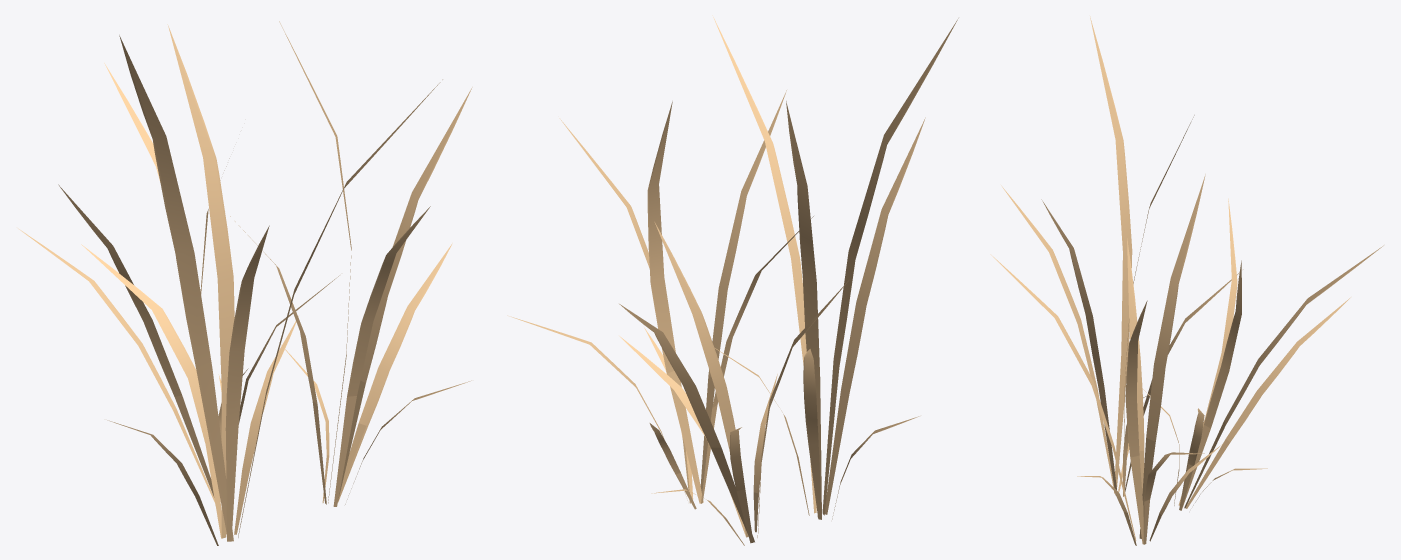
Rendered from mesh137__41213a15_522e_5440_98e7_76d05bfbb304__0_lev1.glb.
3 renders of one model, left to right at view 1: azimuth 30°, elevation 25°; view 2: azimuth 150°, elevation 25°; view 3: azimuth 270°, elevation 25°, orthographic. The views are drawn at different scales.
Parts seen in each view (by area): view 1: mesh137__41213a15_522e_5440_98e7_76d05bfbb304__0_lev1; view 2: mesh137__41213a15_522e_5440_98e7_76d05bfbb304__0_lev1; view 3: mesh137__41213a15_522e_5440_98e7_76d05bfbb304__0_lev1.
Part boxes in pixels (left/top/right/bottom): mesh137__41213a15_522e_5440_98e7_76d05bfbb304__0_lev1: left=18, top=21, right=472, bottom=545; mesh137__41213a15_522e_5440_98e7_76d05bfbb304__0_lev1: left=507, top=15, right=958, bottom=545; mesh137__41213a15_522e_5440_98e7_76d05bfbb304__0_lev1: left=990, top=16, right=1383, bottom=545.
Size of the model in its own units: 5.03 by 6.55 by 5.41.
